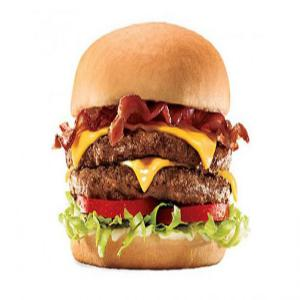cheeseburger_475cal: (37, 15, 255, 269)
